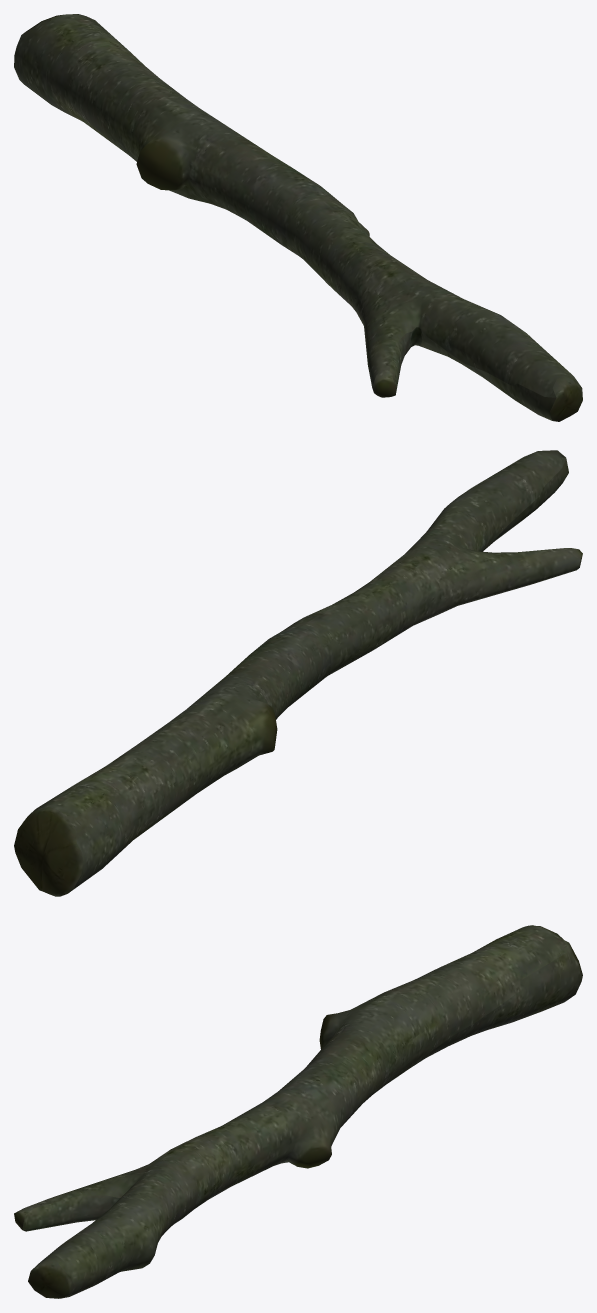
The picture shows the model from 3 angles, top to bottom: view 1: azimuth 30°, elevation 25°; view 2: azimuth 150°, elevation 25°; view 3: azimuth 330°, elevation 25°; orthographic projection. The views are drawn at different scales.
Visible parts, largest first — view 1: SM_Branches_01_LOD0; view 2: SM_Branches_01_LOD0; view 3: SM_Branches_01_LOD0.
Boxes of the visible parts, x1=… form: SM_Branches_01_LOD0: x1=14, y1=14, x2=582, y2=421; SM_Branches_01_LOD0: x1=14, y1=450, x2=582, y2=896; SM_Branches_01_LOD0: x1=14, y1=925, x2=582, y2=1298.
Size of the model in its own units: 0.2541 by 0.1485 by 1.41.
Materials: 1 (1 with a texture image).
